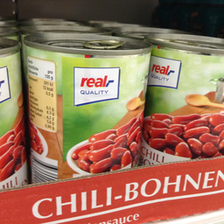beans: (22, 33, 146, 197), (151, 30, 224, 171)
